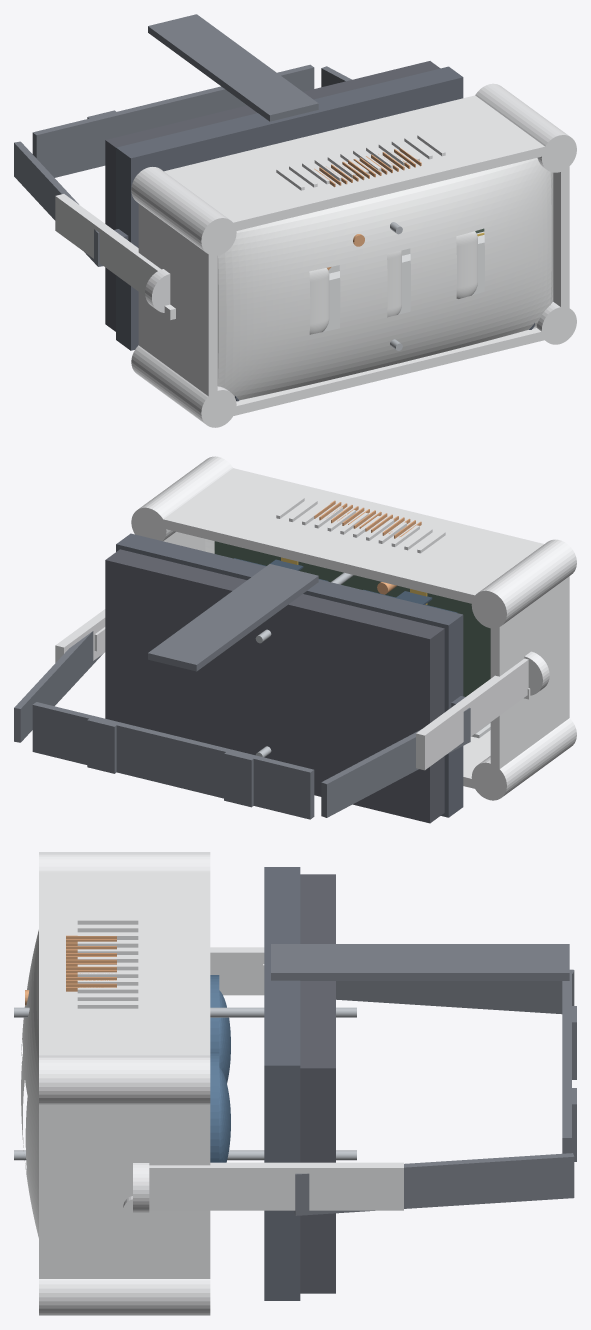
File: quest3_exploded.glb
The picture shows the model from 3 angles, top to bottom: view 1: azimuth 30°, elevation 25°; view 2: azimuth 150°, elevation 25°; view 3: azimuth 270°, elevation 25°; orthographic projection. The views are drawn at different scales.
Parts seen in each view (by area): view 1: exterior_faceplate, exterior_housing, comfort_head_strap, comfort_facial_interface, exterior_side_arms, comfort_cushion_padding, power_battery, electronics_cooling_fan_heatsink; view 2: comfort_cushion_padding, exterior_housing, comfort_head_strap, comfort_facial_interface, exterior_side_arms, electronics_motherboard, electronics_cooling_fan_heatsink, optics_displays; view 3: exterior_housing, comfort_head_strap, exterior_side_arms, comfort_facial_interface, comfort_cushion_padding, exterior_faceplate, electronics_cooling_fan_heatsink, optics_lens_right, optics_brackets, optics_lens_left.
Part boxes in pixels (x1,y1,x2,y2): exterior_faceplate: (217,158,553,399); exterior_housing: (131,83,576,427); comfort_head_strap: (14,14,351,266); comfort_facial_interface: (114,66,463,350); exterior_side_arms: (55,194,170,312); comfort_cushion_padding: (105,61,440,331); power_battery: (323,231,484,331); electronics_cooling_fan_heatsink: (314,148,421,270); comfort_cushion_padding: (105,549,444,823); exterior_housing: (131,456,576,800); comfort_head_strap: (14,564,470,819); comfort_facial_interface: (116,533,465,817); exterior_side_arms: (55,609,549,770); electronics_motherboard: (214,541,490,696); electronics_cooling_fan_heatsink: (314,500,421,594); optics_displays: (234,558,457,612); exterior_housing: (39,852,210,1315); comfort_head_strap: (271,944,576,1215); exterior_side_arms: (133,947,403,1212); comfort_facial_interface: (264,867,300,1300); comfort_cushion_padding: (300,874,335,1293); exterior_faceplate: (21,930,38,1237); electronics_cooling_fan_heatsink: (25,935,116,1005); optics_lens_right: (210,1052,230,1162); optics_brackets: (14,1007,356,1160); optics_lens_left: (210,975,230,1082).
Bounding box in the file's own units: 20.34 × 10.2 × 20.36.
